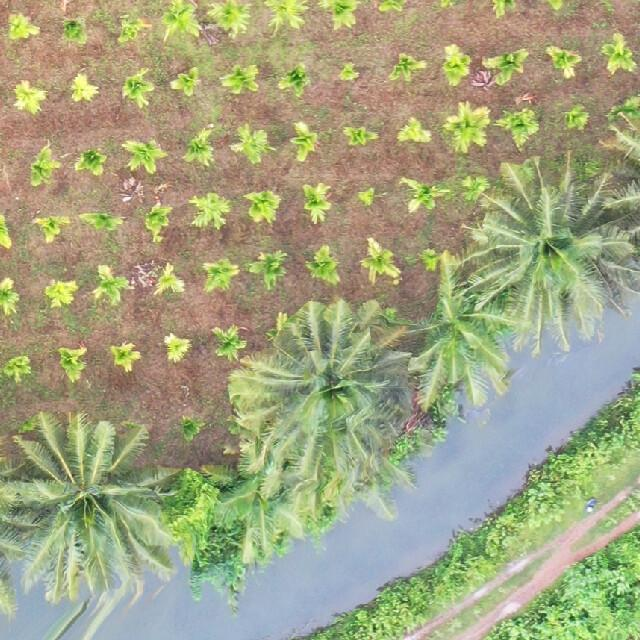tobacco: (0, 98, 640, 640)
